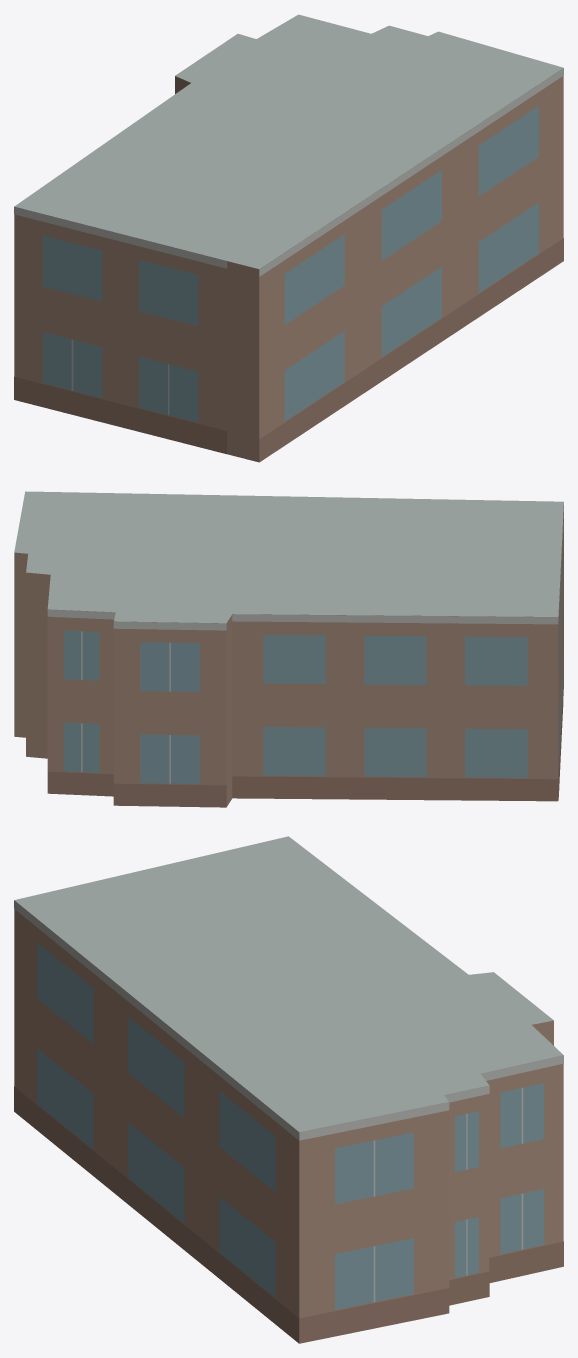
File: survey-upis-32655210.glb
The picture shows the model from 3 angles, top to bottom: view 1: azimuth 30°, elevation 25°; view 2: azimuth 150°, elevation 25°; view 3: azimuth 270°, elevation 25°; orthographic projection. The views are drawn at different scales.
Parts seen in each view (by area): view 1: survey-upis-32655210.tmp; view 2: survey-upis-32655210.tmp; view 3: survey-upis-32655210.tmp.
Boxes of the visible parts, left/top/right/bottom form: survey-upis-32655210.tmp: left=14, top=14, right=563, bottom=462; survey-upis-32655210.tmp: left=14, top=491, right=563, bottom=807; survey-upis-32655210.tmp: left=14, top=836, right=563, bottom=1343.
Bounding box in the file's own units: 18.33 × 6.1 × 14.38.
